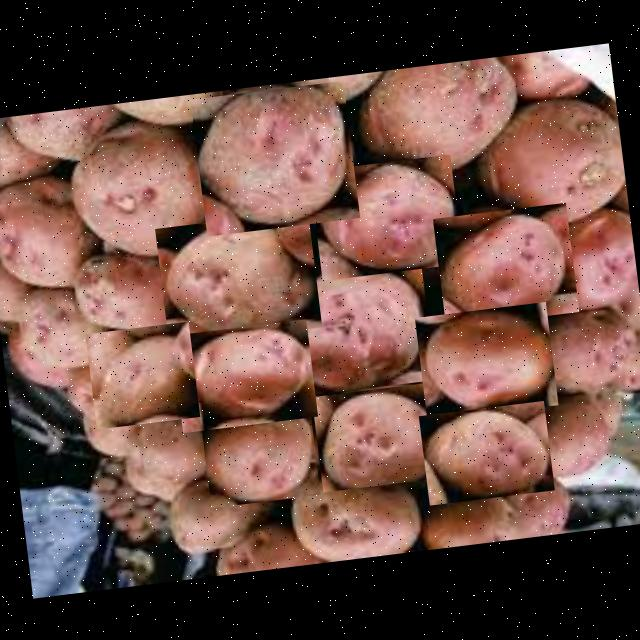Defected potato: (189, 80, 359, 236), (54, 110, 213, 265), (154, 209, 320, 345), (276, 254, 434, 396), (308, 153, 462, 280), (432, 201, 578, 327), (413, 300, 557, 420), (170, 318, 316, 432), (310, 380, 447, 491), (418, 400, 554, 504), (84, 320, 199, 428), (200, 408, 320, 507)
